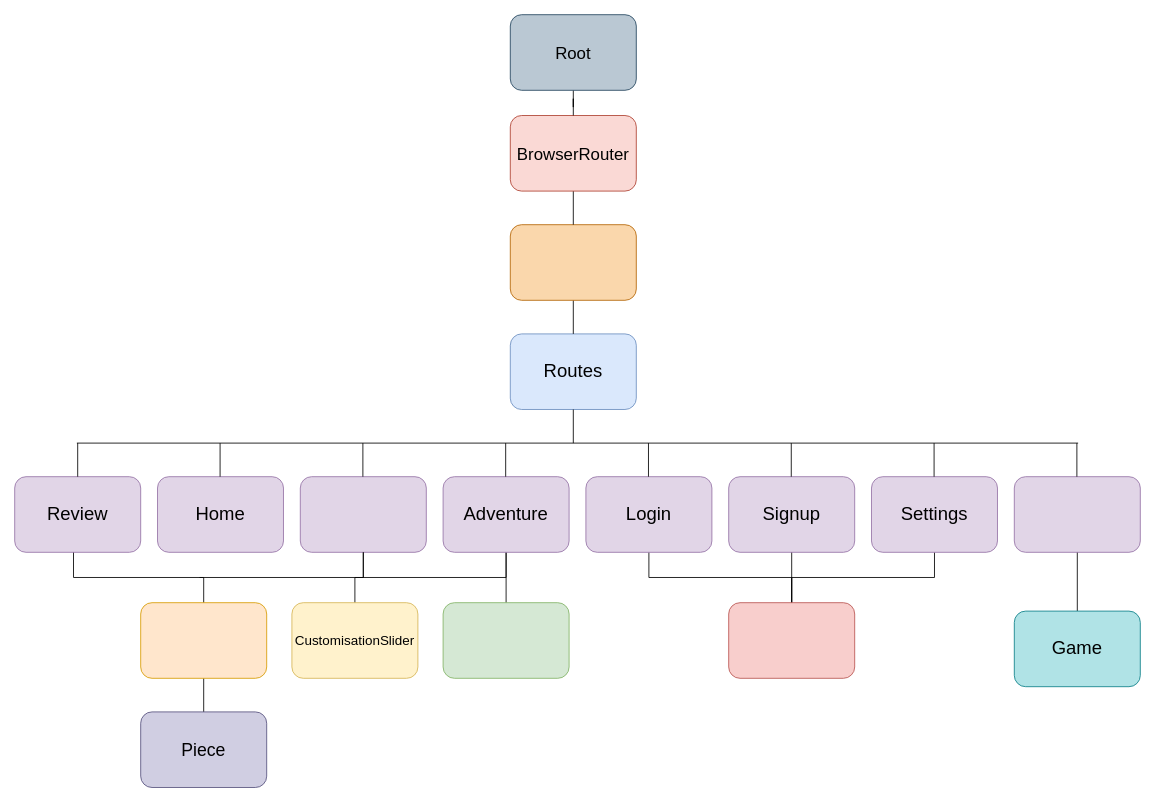
Some shapes in this 1155 by 802 pixel diagram are drawn without their labels. Here are the shapes that lost their labels. From the top down, the centre of each, then its label:
[572,262]: App
[362,514]: Custom
[1076,514]: History
[203,640]: BoardElement
[505,640]: AdventureResults
[791,640]: TextInput
